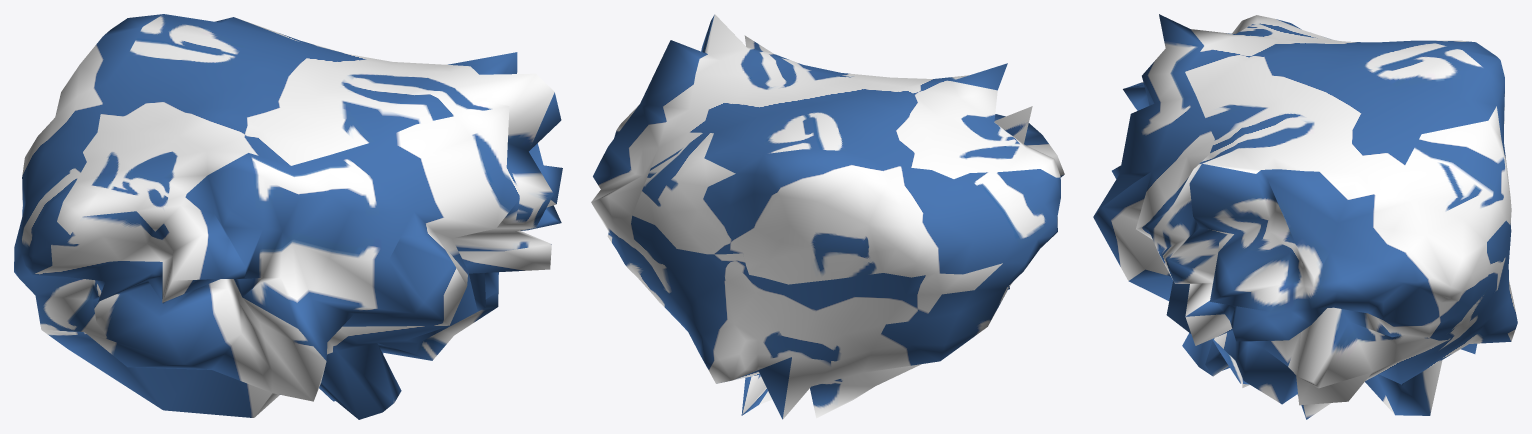
The model's file is RuiDad_Rock1.fbx.
The picture shows the model from 3 angles, left to right: view 1: azimuth 30°, elevation 25°; view 2: azimuth 150°, elevation 25°; view 3: azimuth 270°, elevation 25°; orthographic projection. The views are drawn at different scales.
Parts seen in each view (by area): view 1: SM_e_Plc_P1009_Rock002; view 2: SM_e_Plc_P1009_Rock002; view 3: SM_e_Plc_P1009_Rock002.
Part boxes in pixels (<box>): SM_e_Plc_P1009_Rock002: <box>14,14,562,419</box>; SM_e_Plc_P1009_Rock002: <box>591,14,1064,419</box>; SM_e_Plc_P1009_Rock002: <box>1093,14,1517,419</box>.
Size of the model in its own units: 110 by 73.56 by 85.66.
Materials: 1 (1 with a texture image).
